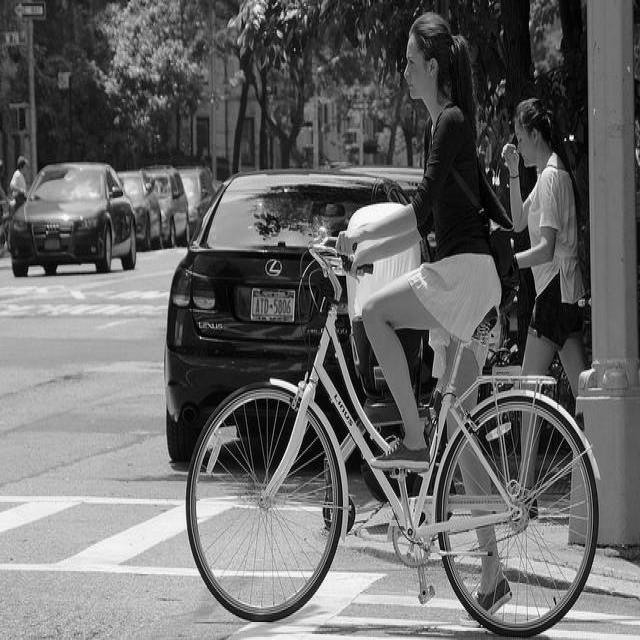vehicle: (164, 174, 410, 466), (9, 165, 137, 278), (139, 165, 191, 249), (118, 171, 166, 253), (176, 165, 226, 232)
